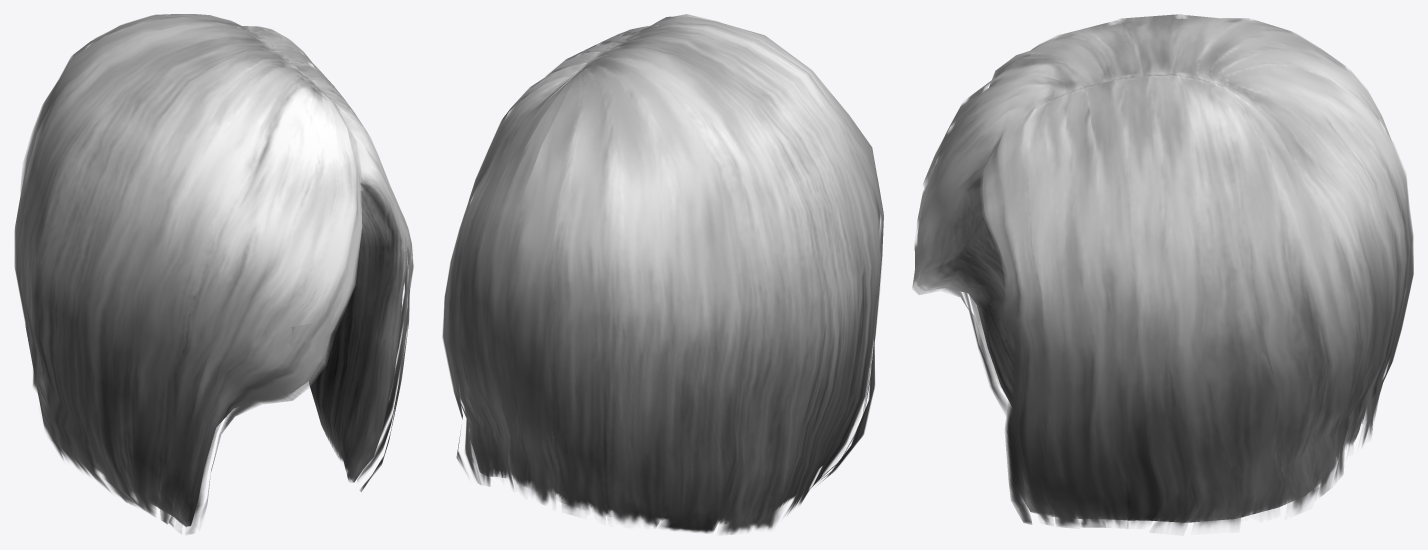
File: hair_bob02.gltf
3 renders of one model, left to right at view 1: azimuth 30°, elevation 25°; view 2: azimuth 150°, elevation 25°; view 3: azimuth 270°, elevation 25°, orthographic. The views are drawn at different scales.
Visible parts, largest first — view 1: hair_bob02; view 2: hair_bob02; view 3: hair_bob02.
Part boxes in pixels (box(x1,y1,x2,y2)): hair_bob02: box(14, 14, 413, 534); hair_bob02: box(442, 14, 883, 534); hair_bob02: box(912, 14, 1413, 530).
Size of the model in its own units: 0.1958 by 0.2421 by 0.2396.
Materials: 1 (1 with a texture image).
